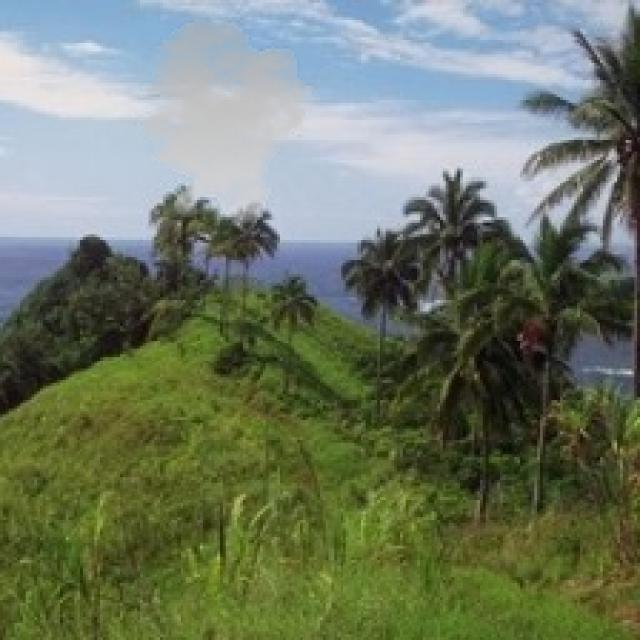Smoke: (120, 17, 320, 226)
